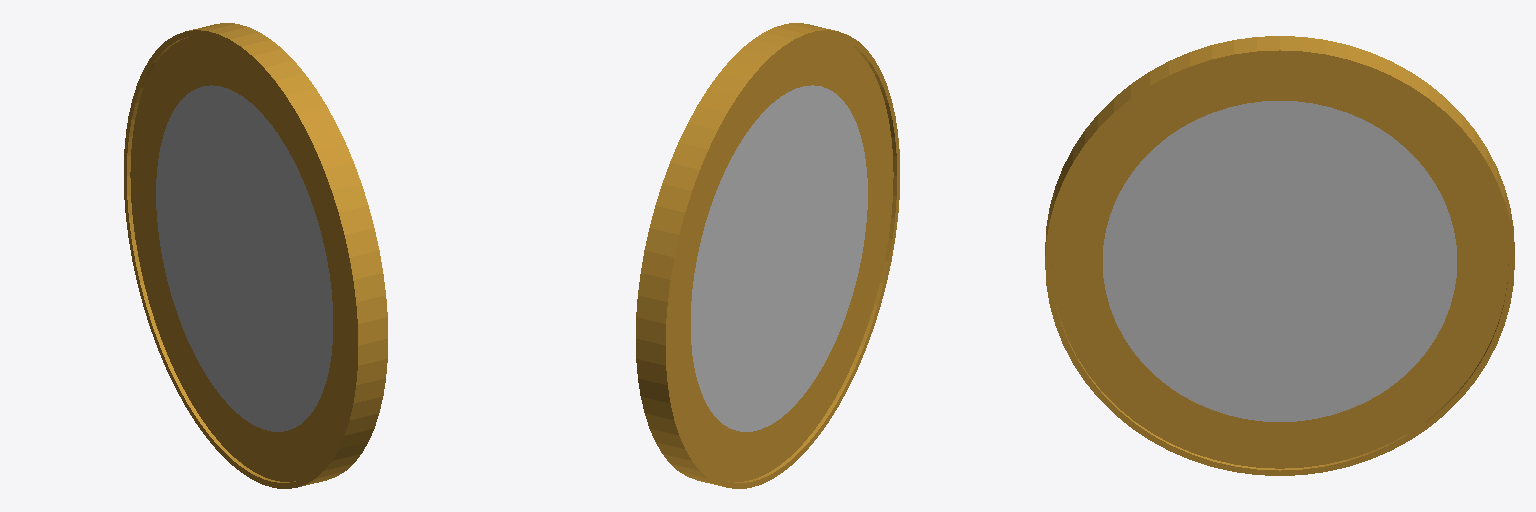
The model's file is coin.new1.obj.
The picture shows the model from 3 angles: view 1: azimuth 30°, elevation 25°; view 2: azimuth 150°, elevation 25°; view 3: azimuth 270°, elevation 25°; orthographic projection.
Parts seen in each view (by area): view 1: Cylinder_Cylinder.001; view 2: Cylinder_Cylinder.001; view 3: Cylinder_Cylinder.001.
Boxes of the visible parts, x1=… form: Cylinder_Cylinder.001: x1=124, y1=23, x2=387, y2=488; Cylinder_Cylinder.001: x1=636, y1=23, x2=899, y2=488; Cylinder_Cylinder.001: x1=1045, y1=36, x2=1514, y2=475.
Bounding box in the file's own units: 0.3388 × 4.6 × 4.6.